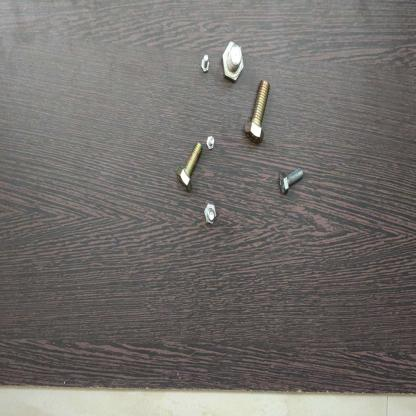Bolts: (242, 78, 274, 143), (174, 138, 204, 195), (222, 38, 246, 84), (275, 164, 306, 195), (200, 208, 219, 237), (200, 47, 213, 74)
